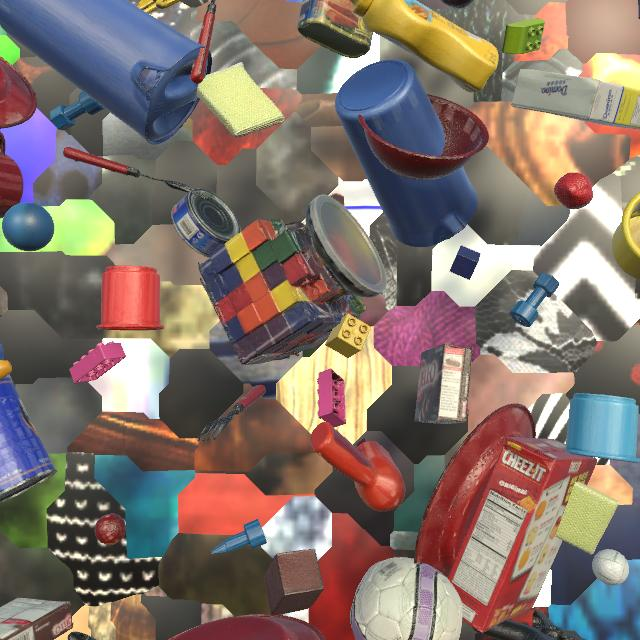ycb_002_master_chef_can: (0, 375, 57, 504)
ycb_003_cracker_box: (448, 437, 598, 633)
ycb_004_sugar_box: (511, 69, 640, 129)
ycb_006_mustard_bottle: (350, 0, 498, 93)
ycb_007_tuna_fish_can: (171, 188, 241, 257)
ycb_008_pudding_box: (414, 343, 473, 424), (0, 597, 73, 640)
ycb_010_potted_meat_can: (297, 0, 373, 58)
ycb_011_banana: (0, 360, 12, 380)
ycb_012_strawberry: (554, 172, 593, 209)
ycb_018_plum: (441, 0, 474, 9)
